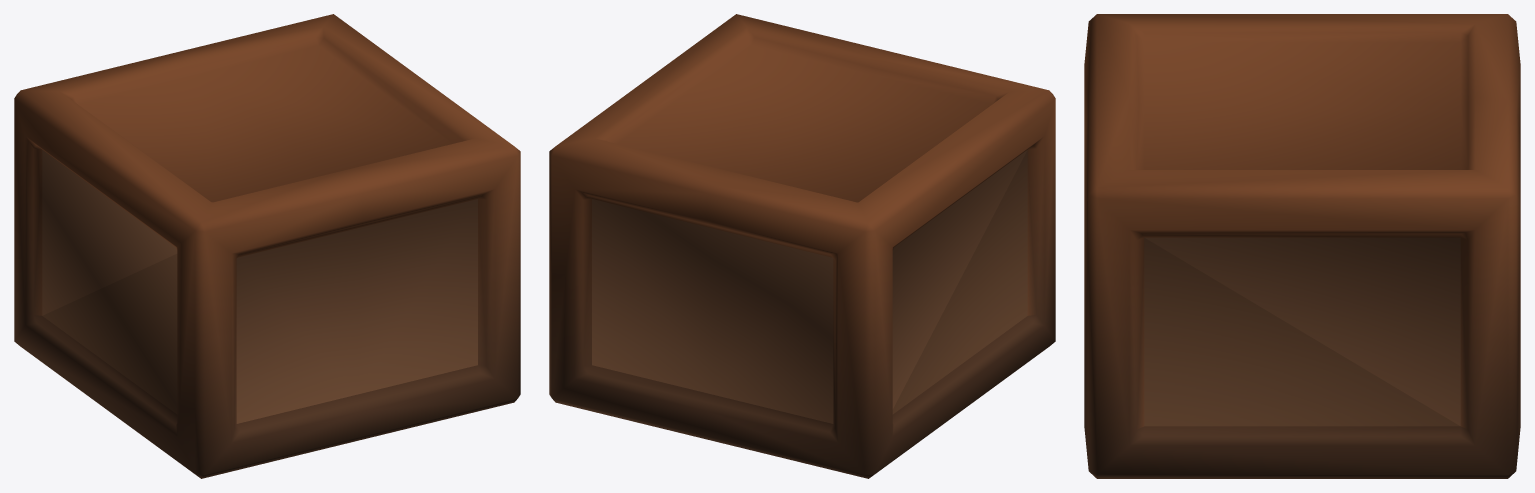
Rendered from Crate_Small.fbx.
The picture shows the model from 3 angles, left to right: view 1: azimuth 30°, elevation 25°; view 2: azimuth 150°, elevation 25°; view 3: azimuth 270°, elevation 25°; orthographic projection. The views are drawn at different scales.
Visible parts, largest first — view 1: Crate_Small; view 2: Crate_Small; view 3: Crate_Small.
Boxes of the visible parts, <box> form: Crate_Small: <box>14,14,520,478</box>; Crate_Small: <box>549,14,1055,478</box>; Crate_Small: <box>1084,14,1520,478</box>.
Size of the model in its own units: 165 by 125 by 165.
